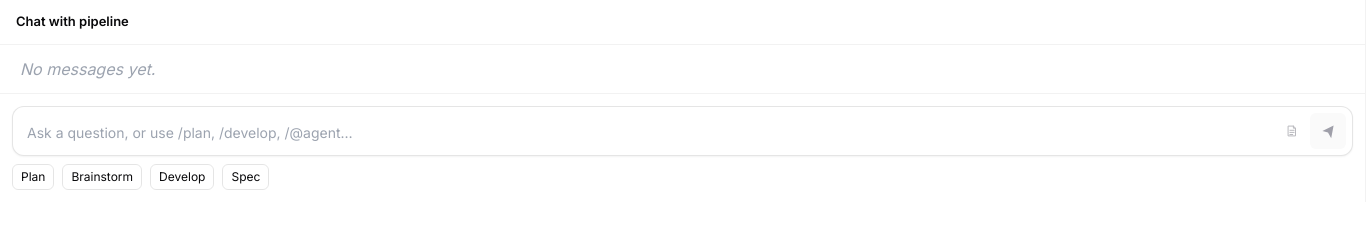
it: ChatPane › wraps non-pre-flight errors in 'Command failed:' prefix
Type "/plan #99 do thing" into the text box with test id "chat-input" at coordinates (644, 132), box [19,116,1270,148]
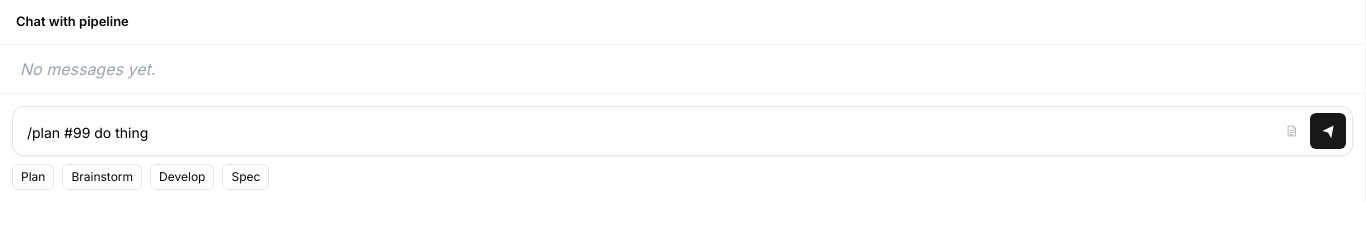
Click the button with test id "chat-send" at coordinates (1328, 130), box [1310,112,1346,148]
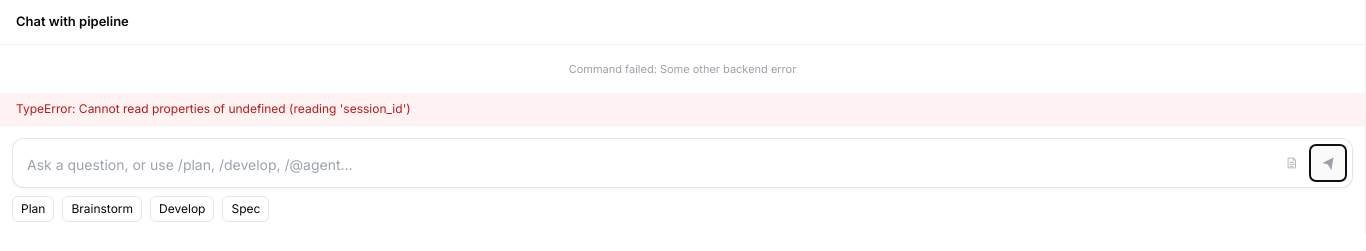
Expected: the text with test id "chat-message-system" shows "Command failed:", [569,62,796,76]
Expected: the text with test id "chat-message-system" shows "Some other backend error", [569,62,796,76]
